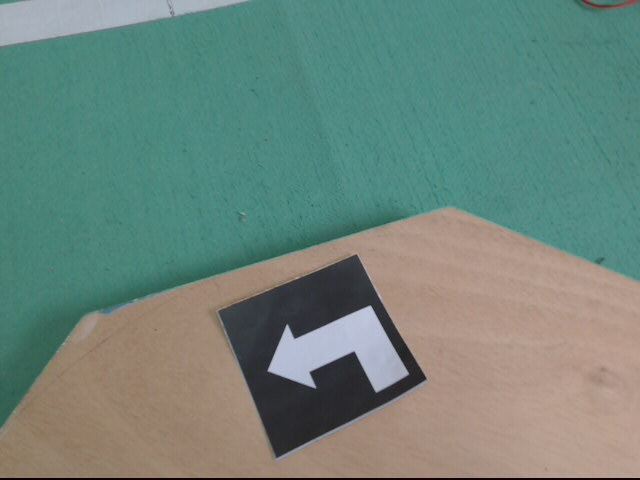left: (215, 252, 430, 461)
